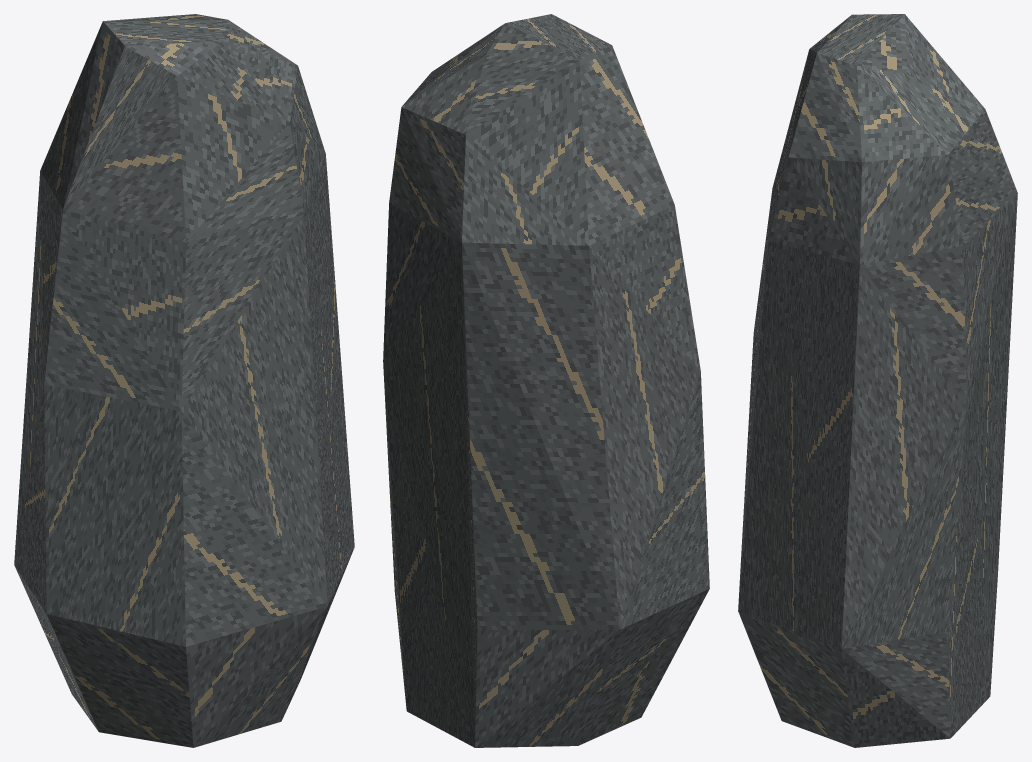
The model's file is f_boulder_large_volc.glb.
3 views of the same model, side by side, from view 1: azimuth 30°, elevation 25°; view 2: azimuth 150°, elevation 25°; view 3: azimuth 270°, elevation 25° (orthographic). The views are drawn at different scales.
Parts seen in each view (by area): view 1: block_weathered rock; view 2: block_weathered rock; view 3: block_weathered rock.
Boxes of the visible parts, box(x1,y1,x2,y2) form: block_weathered rock: box(14, 14, 354, 747); block_weathered rock: box(383, 14, 709, 747); block_weathered rock: box(738, 14, 1017, 747).
Size of the model in its own units: 1.05 by 2.19 by 0.8506.
Materials: 1 (1 with a texture image).
